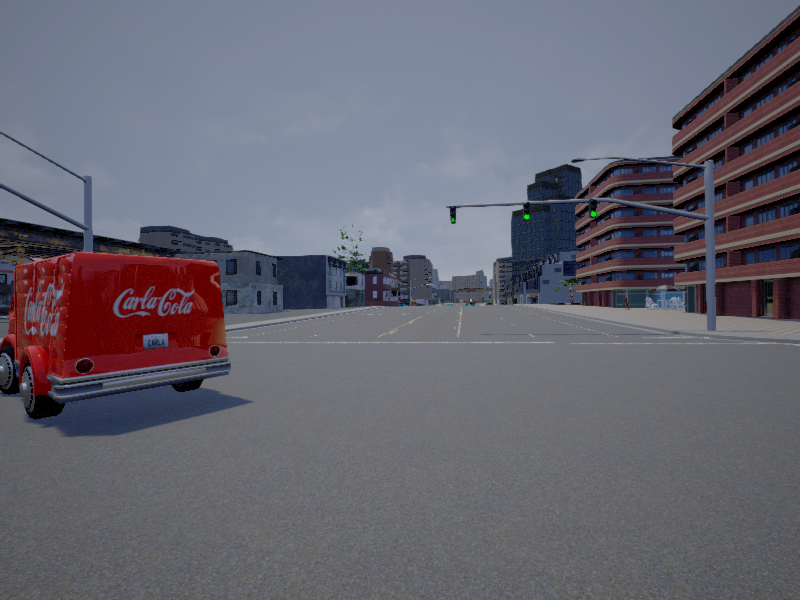Benign: (1, 259, 221, 418)
